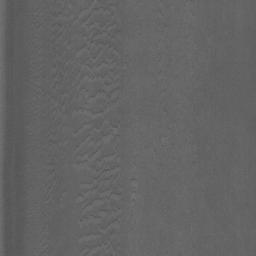Silk spot: (32, 0, 136, 256), (43, 155, 61, 200)
